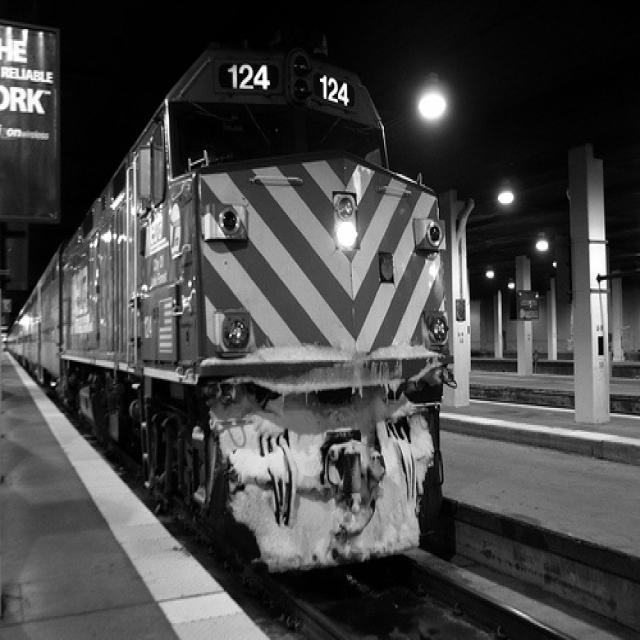train: (1, 44, 458, 580)
